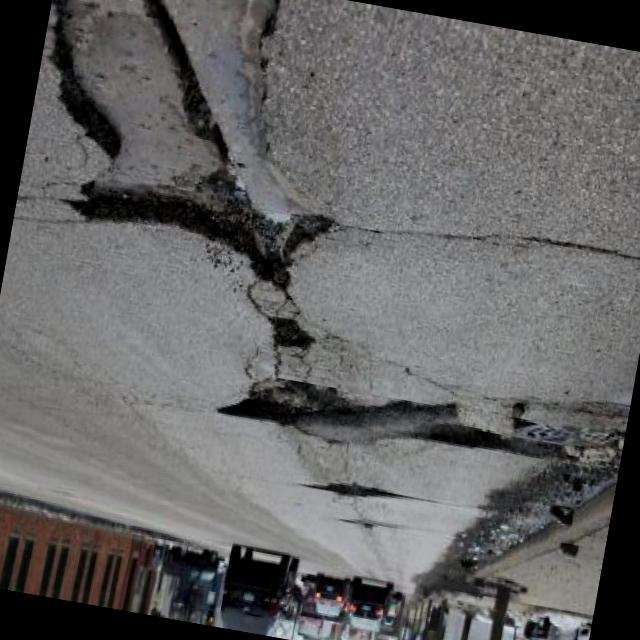pothole: (9, 0, 378, 301), (212, 363, 342, 441), (412, 415, 566, 473), (306, 476, 396, 508), (259, 312, 320, 358)
